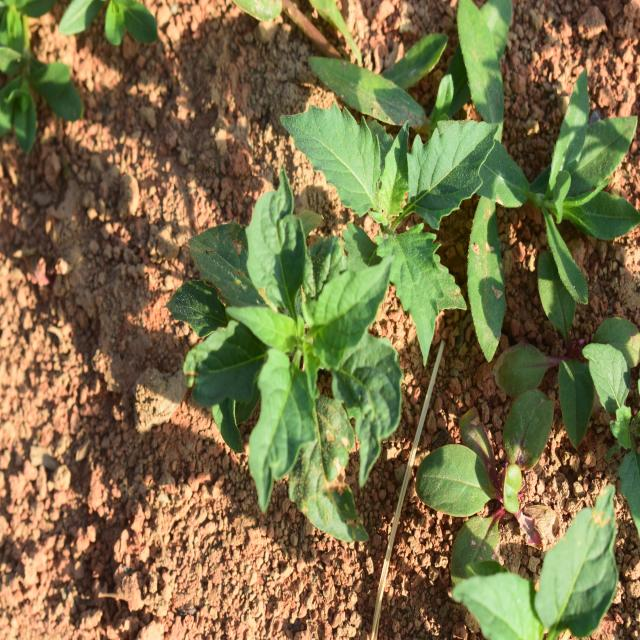Black_nightshade: (175, 170, 406, 527), (289, 89, 486, 355)
